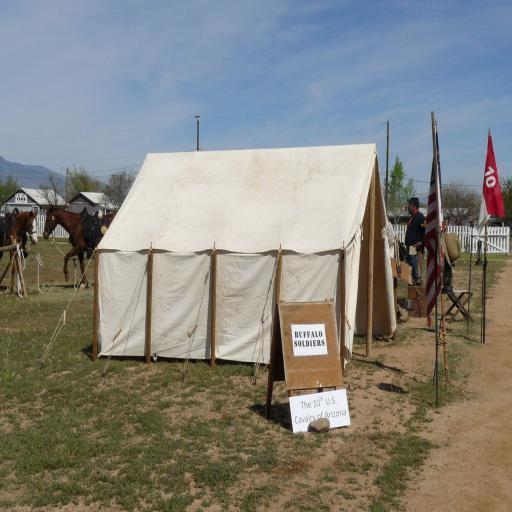horse: (43, 204, 119, 290), (0, 206, 39, 296)
